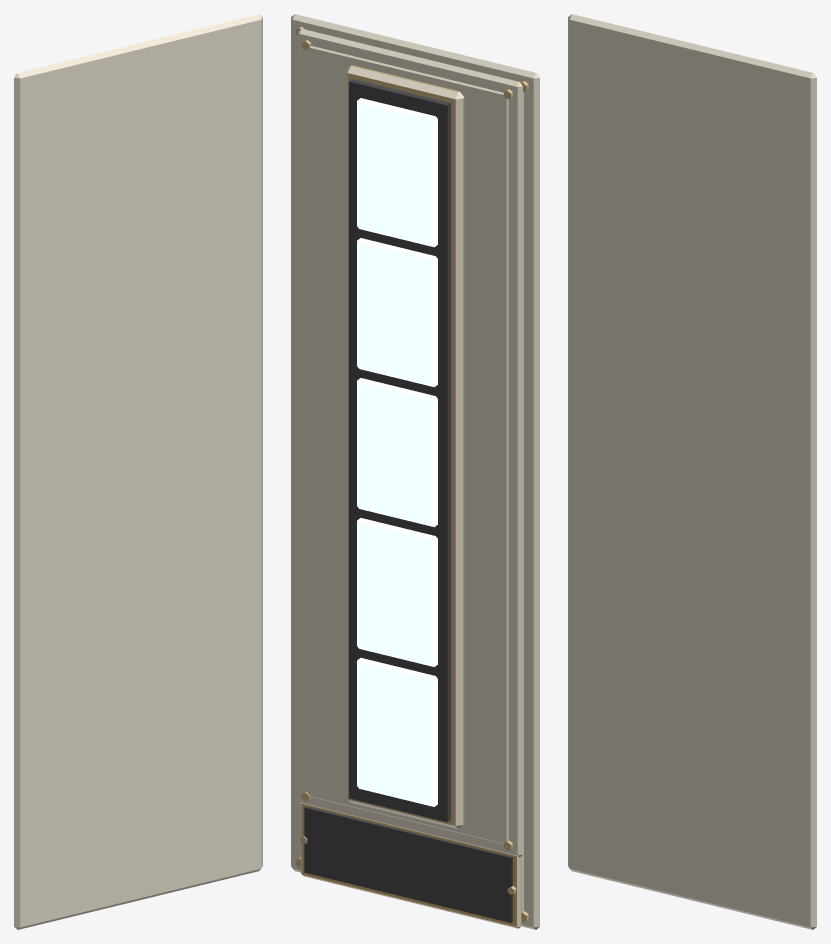
Rendered from Disp_Bar_1x3.fbx.
3 views of the same model, side by side, from view 1: azimuth 30°, elevation 25°; view 2: azimuth 150°, elevation 25°; view 3: azimuth 330°, elevation 25° (orthographic).
Parts seen in each view (by area): view 1: Disp_Bar_1x3; view 2: Disp_Bar_1x3, Seg0.002, Seg3.002, Seg4.002, Seg2.002, Seg1.002; view 3: Disp_Bar_1x3.
Part boxes in pixels (box(x1,y1,x2,y2)): Disp_Bar_1x3: box(14, 14, 262, 929); Disp_Bar_1x3: box(291, 14, 539, 929); Seg0.002: box(357, 658, 437, 806); Seg3.002: box(357, 238, 437, 387); Seg4.002: box(357, 98, 437, 247); Seg2.002: box(357, 378, 437, 527); Seg1.002: box(357, 518, 437, 666); Disp_Bar_1x3: box(568, 14, 816, 929).
Bounding box in the file's own units: 0.96 × 3.16 × 0.1481.
